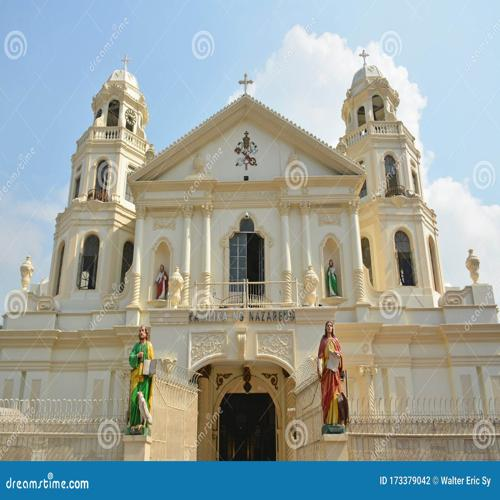Quiapo Church: (2, 47, 495, 461)
